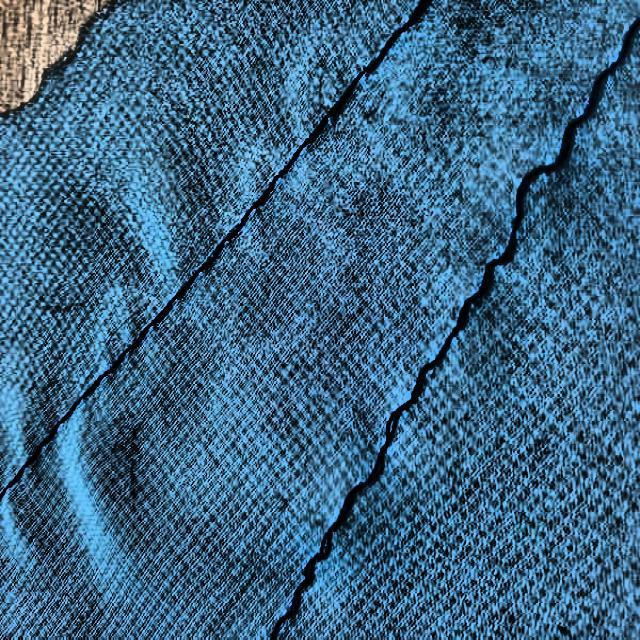gray stitch: (486, 124, 584, 288), (347, 385, 440, 497)
